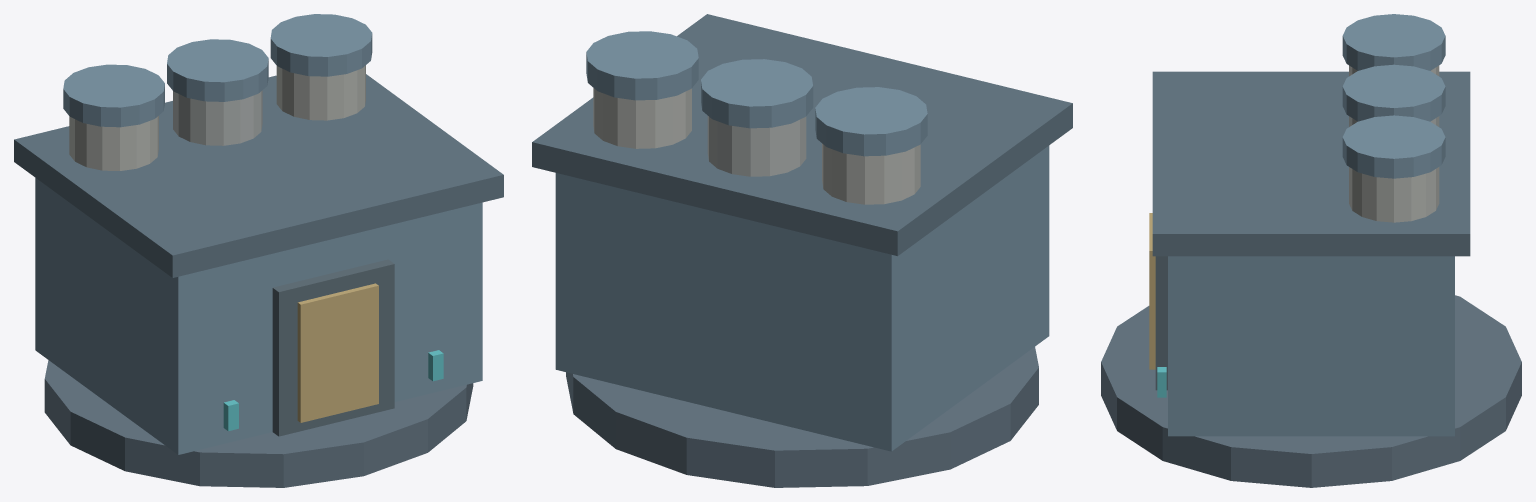
File: warehouse.glb
3 views of the same model, side by side, from view 1: azimuth 30°, elevation 25°; view 2: azimuth 150°, elevation 25°; view 3: azimuth 270°, elevation 25° (orthographic). The views are drawn at different scales.
Size of the model in its own units: 2.8 by 2.19 by 2.7.
